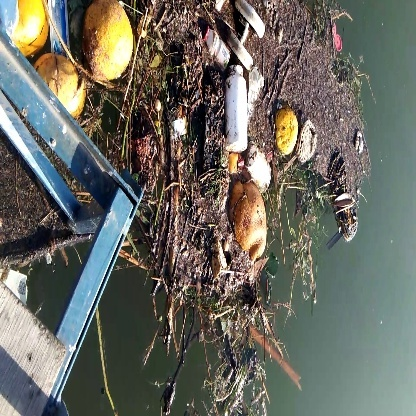ball: (82, 1, 136, 88)
bottle: (222, 61, 251, 156)
branch: (251, 324, 313, 401), (92, 313, 123, 416)
